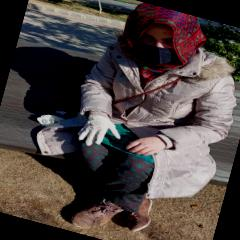gloved: (74, 110, 122, 151)
not-gloved: (122, 130, 167, 162)
